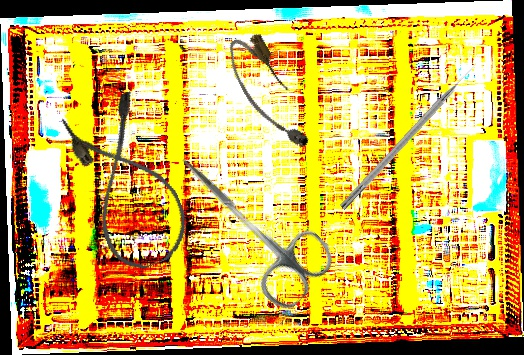Cannula: (57, 89, 199, 278), (220, 28, 317, 160)
Hook Surgical: (338, 60, 481, 212)
Iris Scissors: (153, 132, 341, 316)
